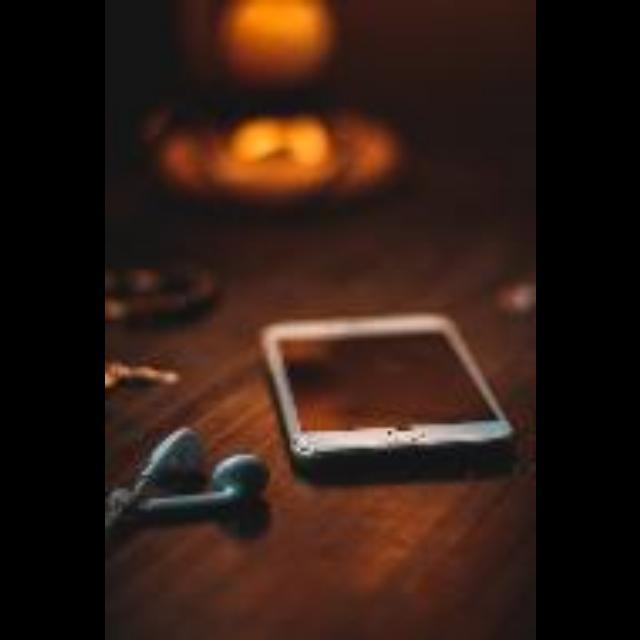Phone: (260, 314, 520, 468)
